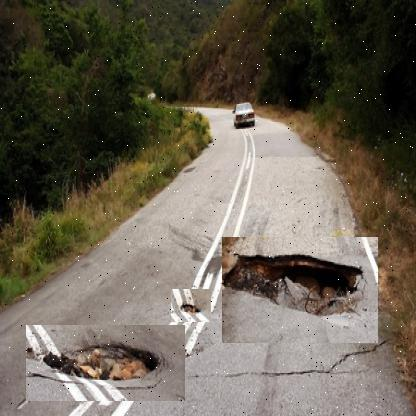pothole: (221, 237, 378, 344), (25, 325, 185, 402), (170, 289, 211, 323)
